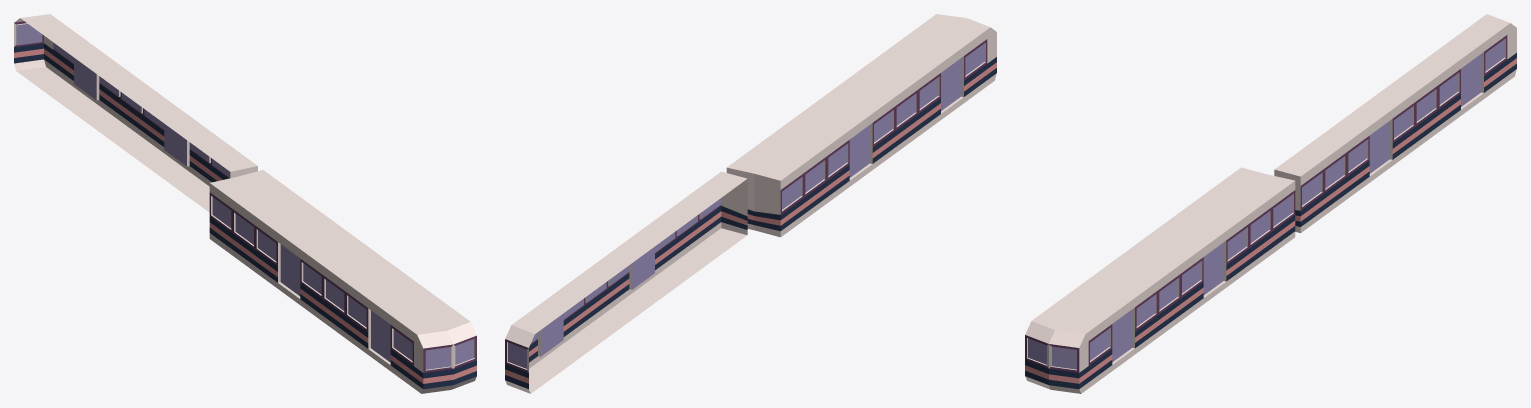
File: train2.gltf
3 renders of one model, left to right at view 1: azimuth 30°, elevation 25°; view 2: azimuth 150°, elevation 25°; view 3: azimuth 330°, elevation 25°, orthographic.
Visible parts, largest first — view 1: Cube, Cube.001; view 2: Cube, Cube.001; view 3: Cube, Cube.001.
Boxes of the visible parts, x1,y1,x2,y2 form: Cube: [209, 170, 476, 393]; Cube.001: [14, 14, 257, 212]; Cube: [726, 14, 996, 237]; Cube.001: [505, 171, 747, 393]; Cube: [1025, 167, 1295, 393]; Cube.001: [1274, 14, 1516, 233].
Bounding box in the file's own units: 2 × 2 × 28.43.
Materials: 1 (1 with a texture image).
